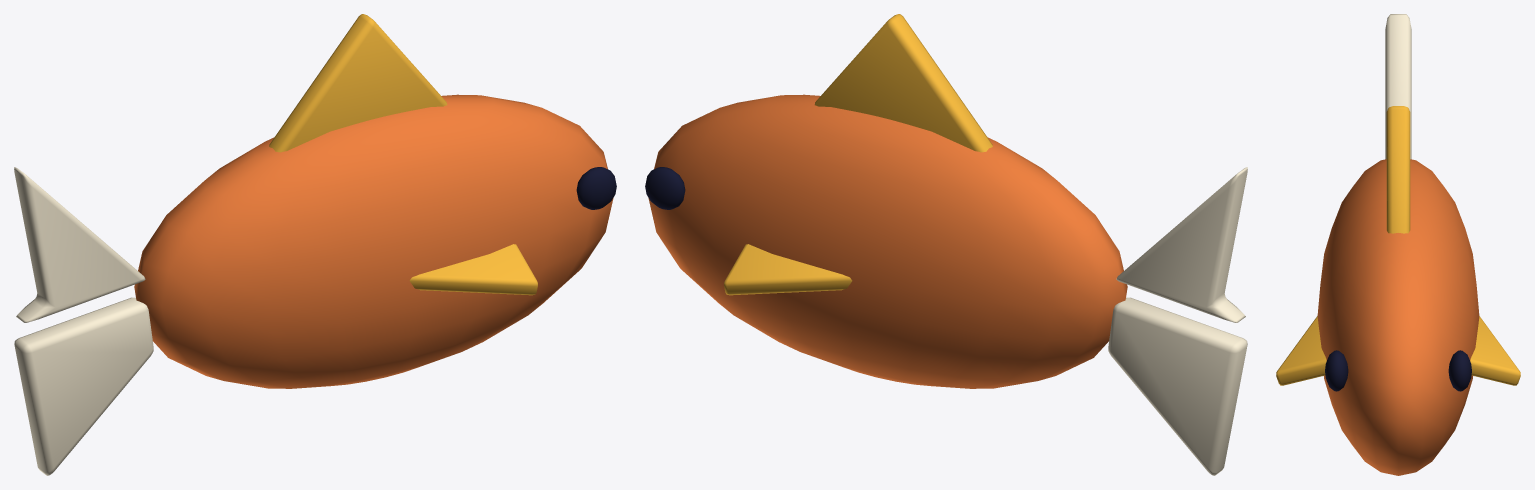
File: r010_reef_clownfish_model_clownfish.glb
3 views of the same model, side by side, from view 1: azimuth 30°, elevation 25°; view 2: azimuth 150°, elevation 25°; view 3: azimuth 270°, elevation 25° (orthographic). The views are drawn at different scales.
Visible parts, largest first — view 1: r010_reef_clownfish_model_clownfish.001; view 2: r010_reef_clownfish_model_clownfish.001; view 3: r010_reef_clownfish_model_clownfish.001.
Boxes of the visible parts, left/top/right/bottom form: r010_reef_clownfish_model_clownfish.001: left=14, top=14, right=616, bottom=475; r010_reef_clownfish_model_clownfish.001: left=645, top=14, right=1247, bottom=475; r010_reef_clownfish_model_clownfish.001: left=1276, top=14, right=1520, bottom=475.
Bounding box in the file's own units: 4.24 × 2.58 × 1.66.
